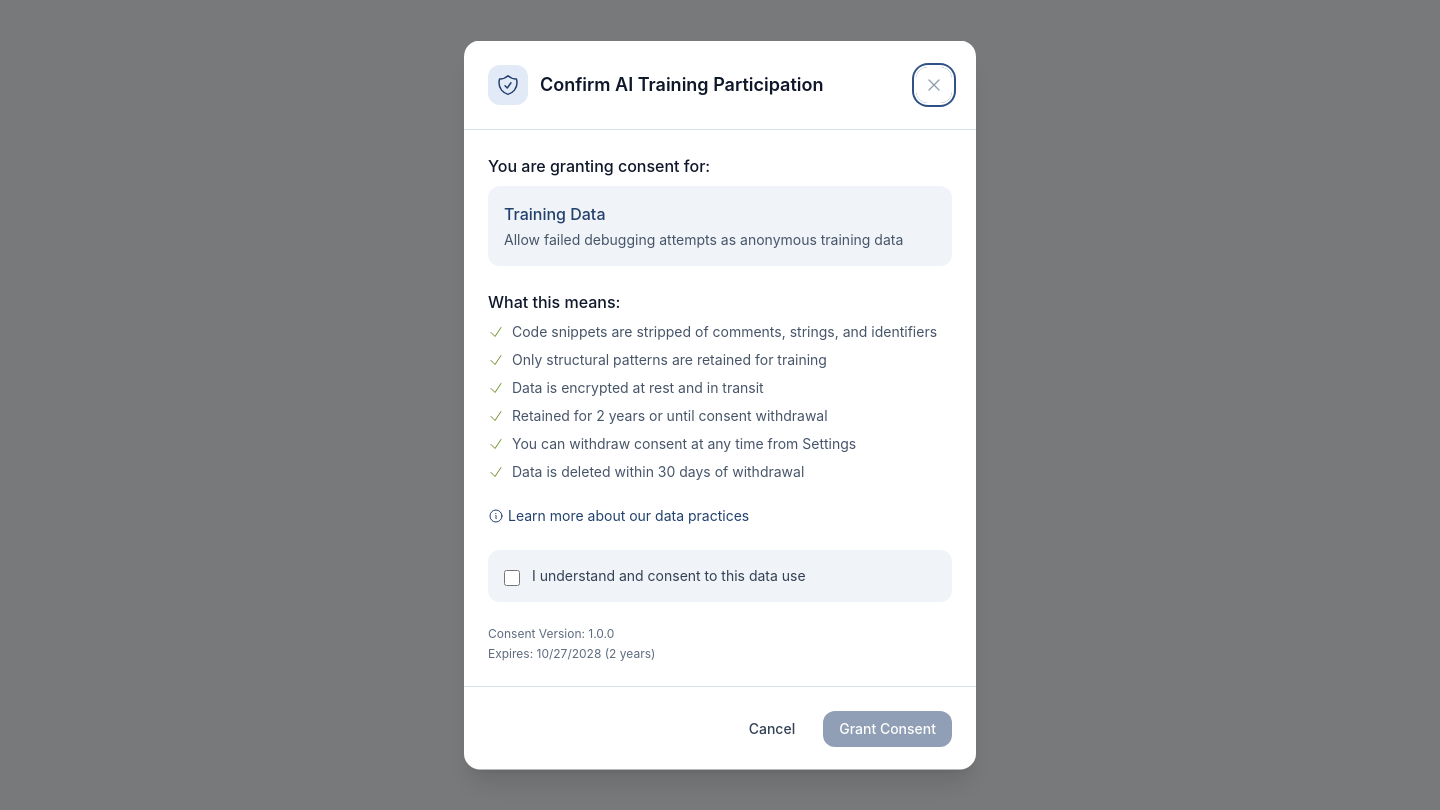
ConsentConfirmModal › buttons › shows loading state during confirmation
Click the checkbox. click: (512, 578)
box: x1=504 y1=570 x2=520 y2=586
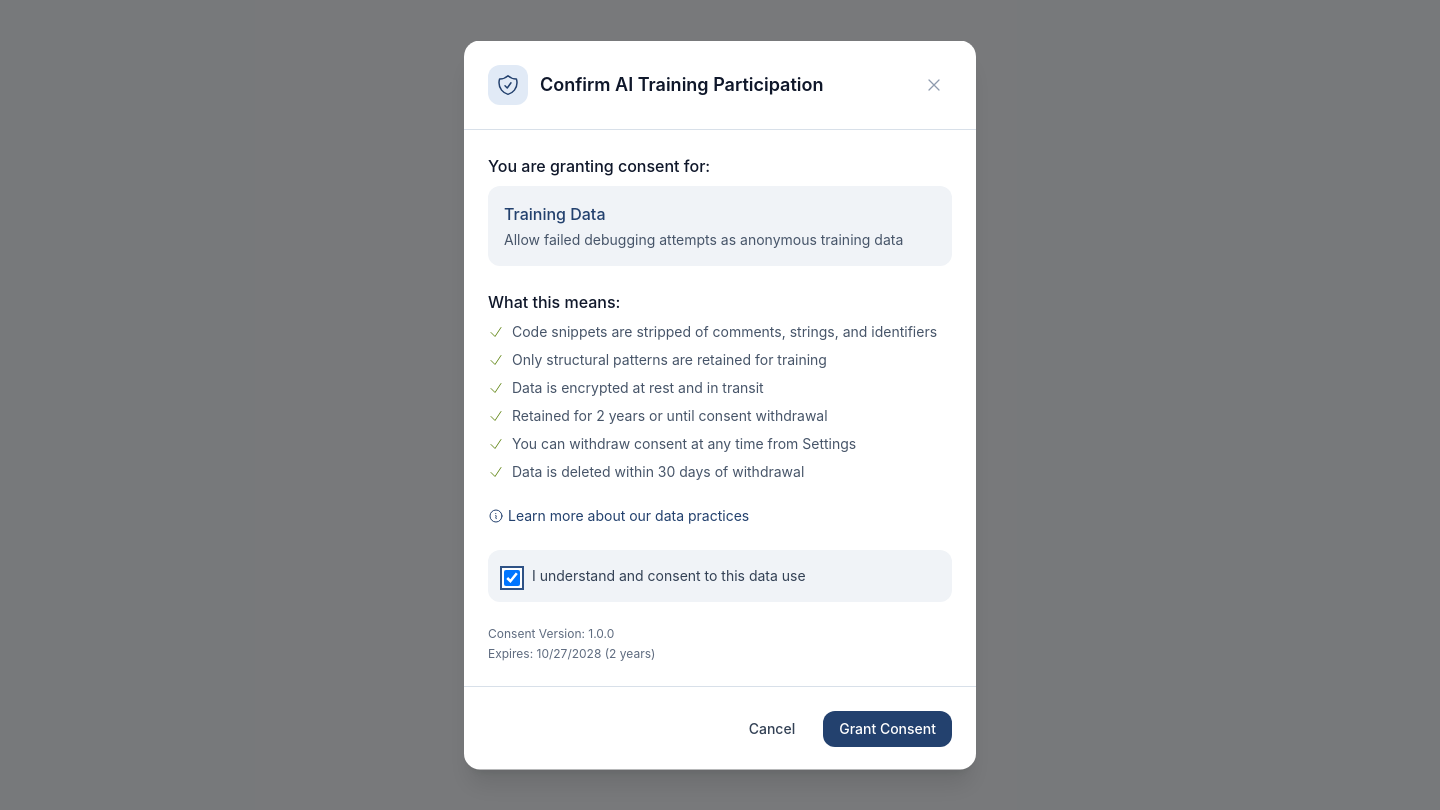
Click the button "Grant Consent". click: (888, 728)
box: x1=823 y1=710 x2=952 y2=746
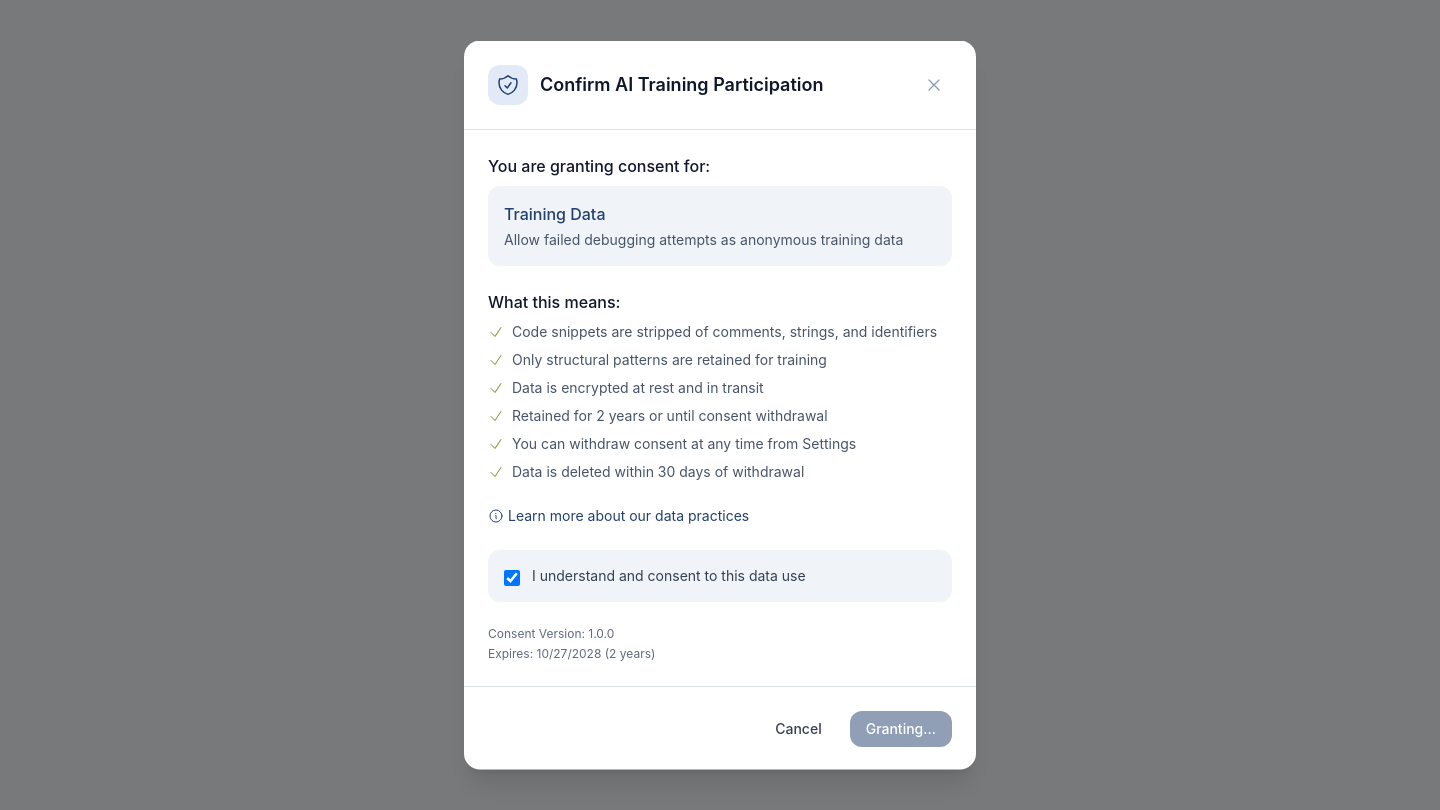
Expected: the button "Granting..." is disabled, x1=850 y1=710 x2=952 y2=746
